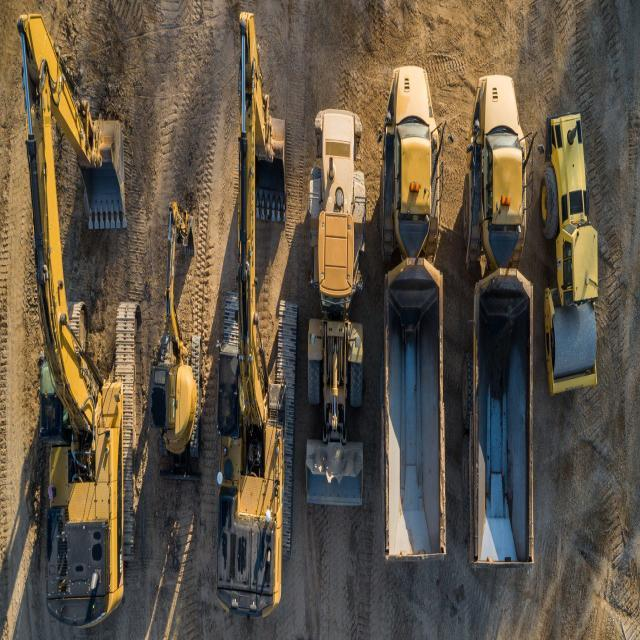excavator: (19, 15, 141, 626), (216, 12, 298, 622), (148, 203, 202, 476)
